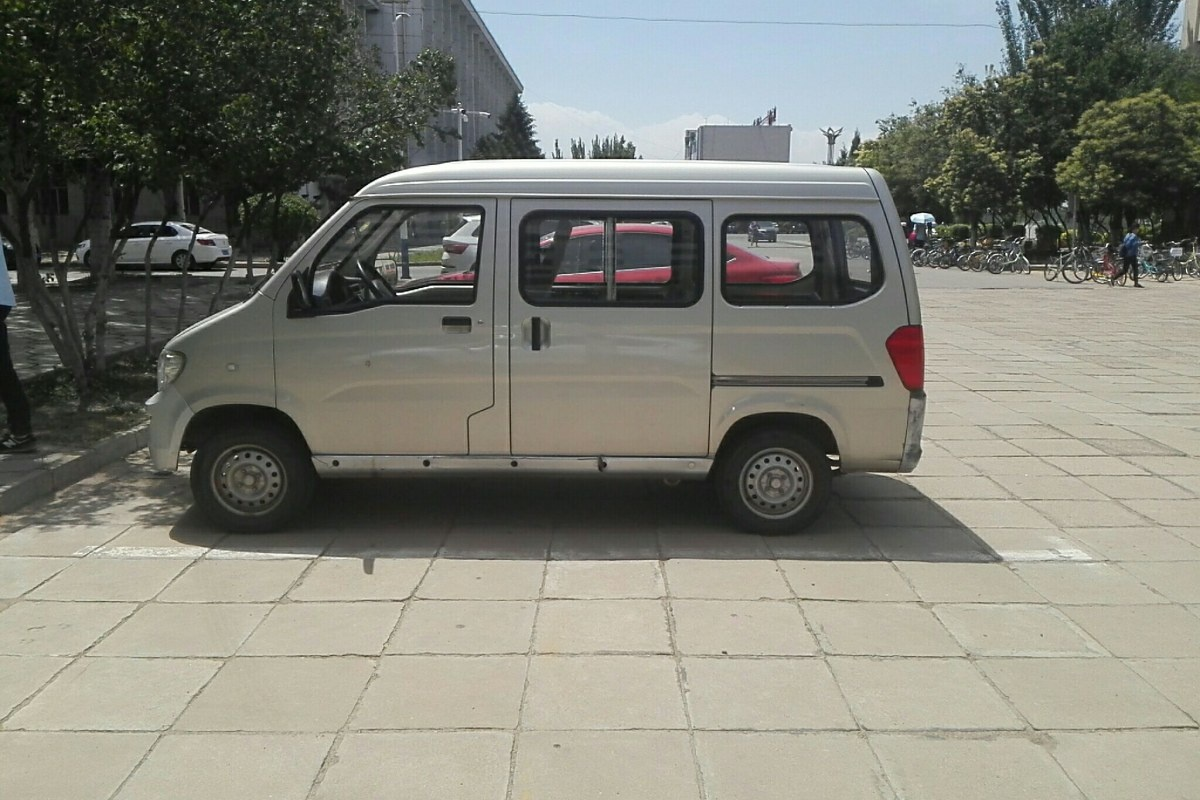minibus: (161, 147, 938, 550)
